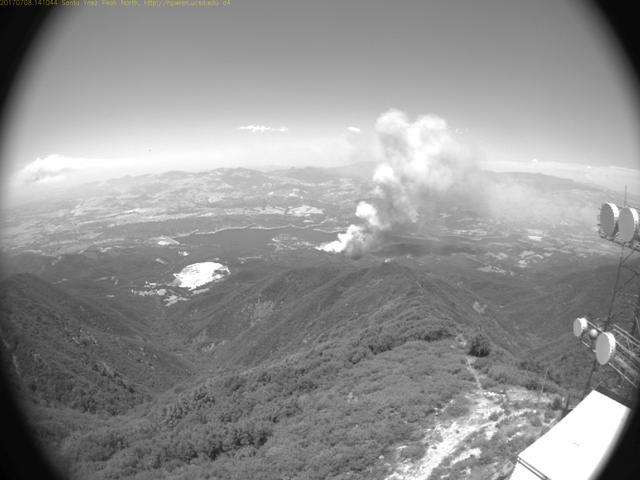smoke: (312, 106, 566, 259)
